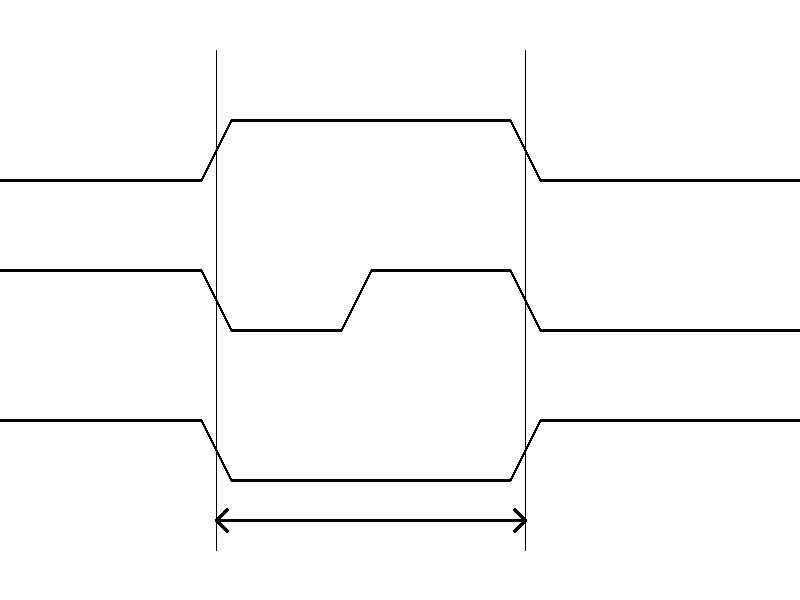double_arrow: (216, 505, 525, 535)
